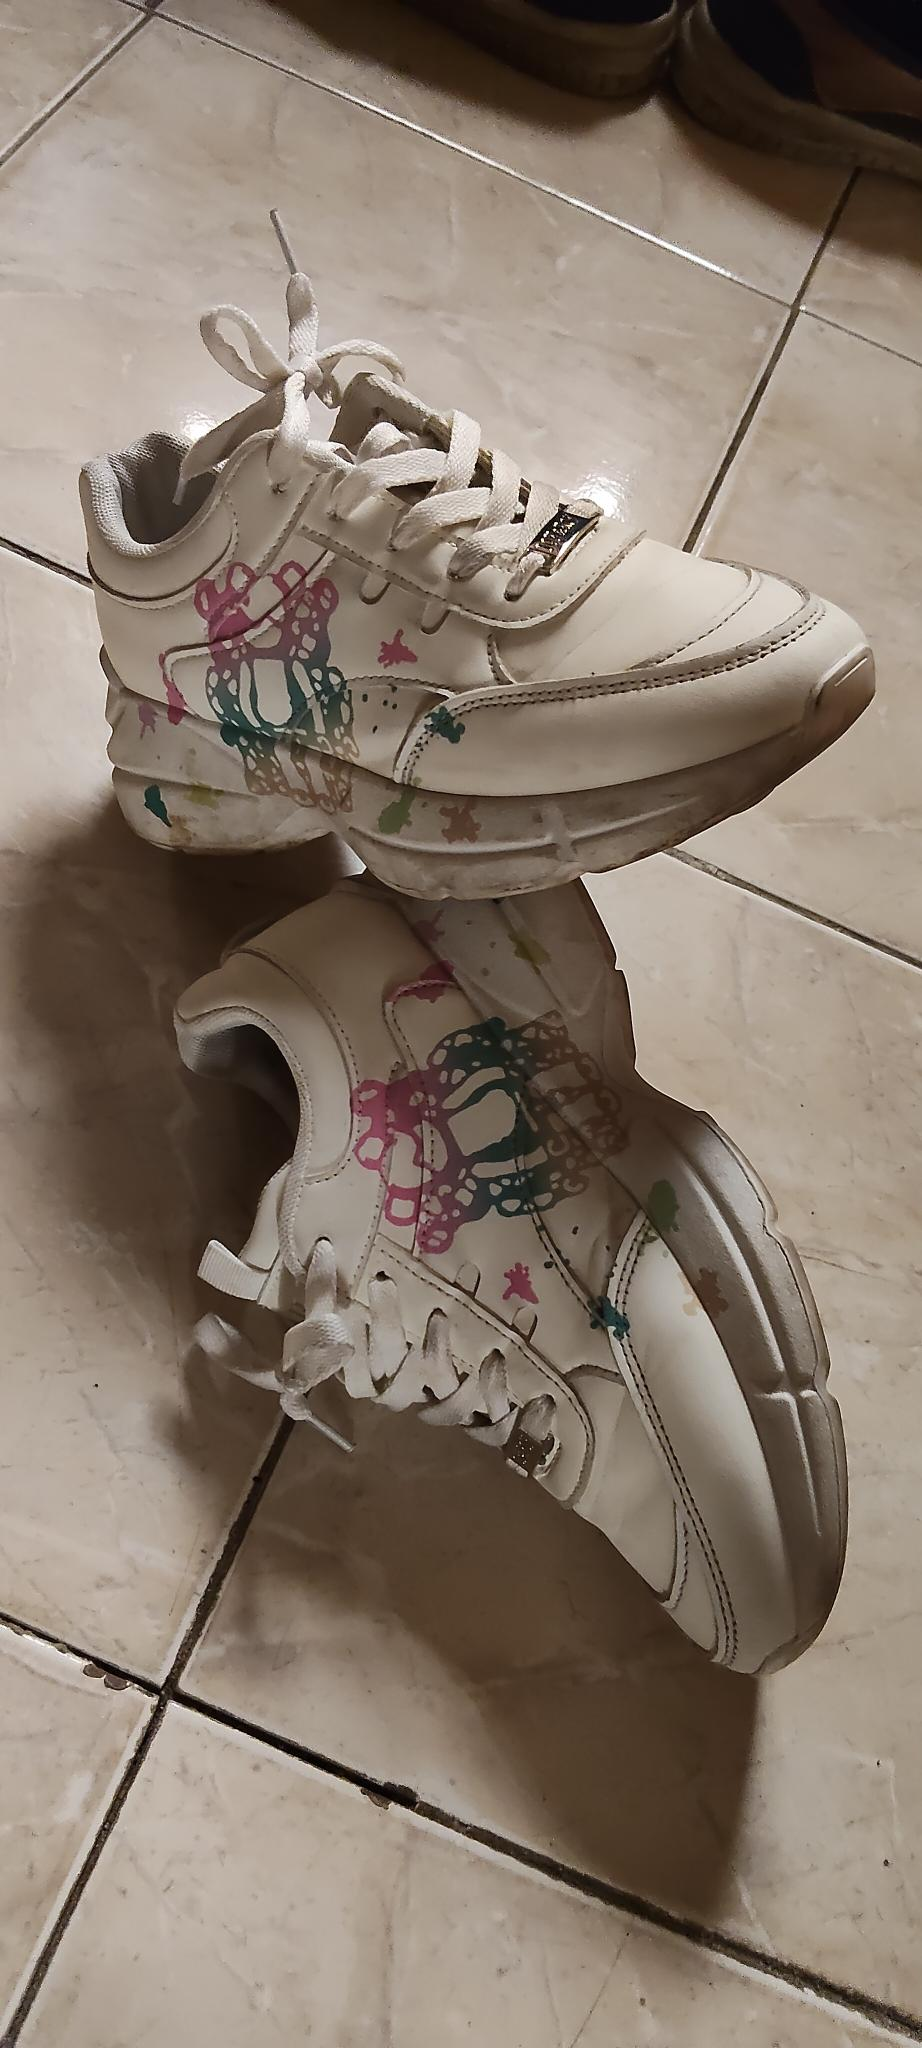Shoes: (75, 209, 873, 903), (170, 871, 850, 1673)
